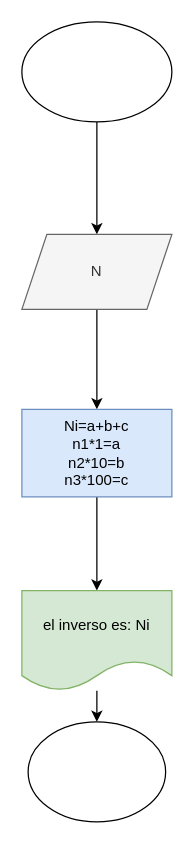
This 194x844 diagram has some shape labels left out. The centre of each missing label's shape, as x and y in pixels:
"FIN" goes at point 96,771.
"INICIO" goes at point 96,71.
